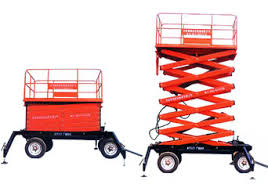Scissor Lift: (142, 11, 257, 177), (1, 67, 144, 168)
